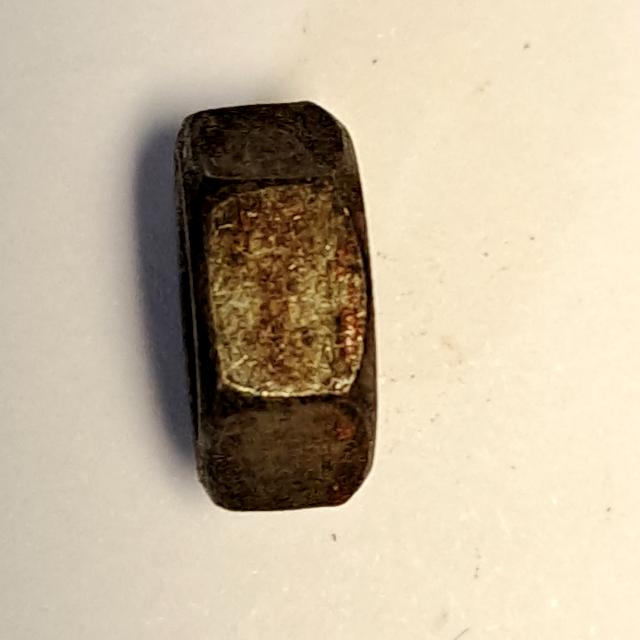Side_Rust: (158, 93, 394, 525)
